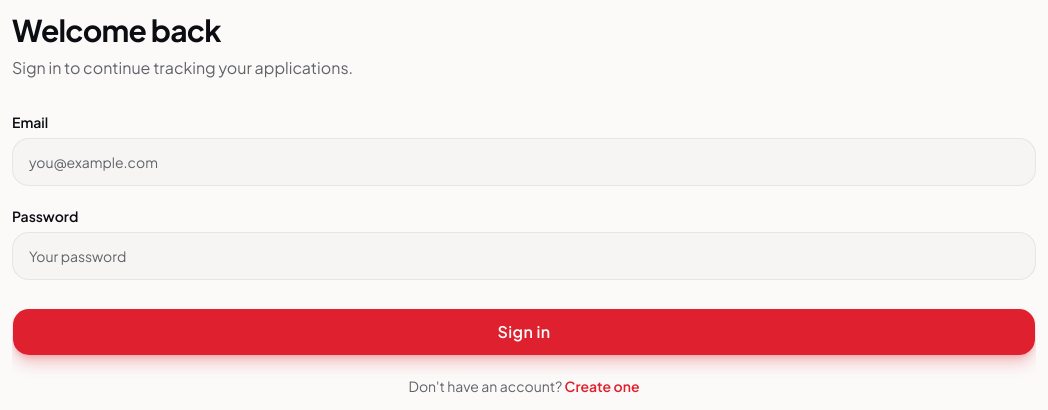
Test: LoginForm › disables button while loading
In the field labelled "Email": (524, 162) [12,138,1036,186], type "user@example.com"
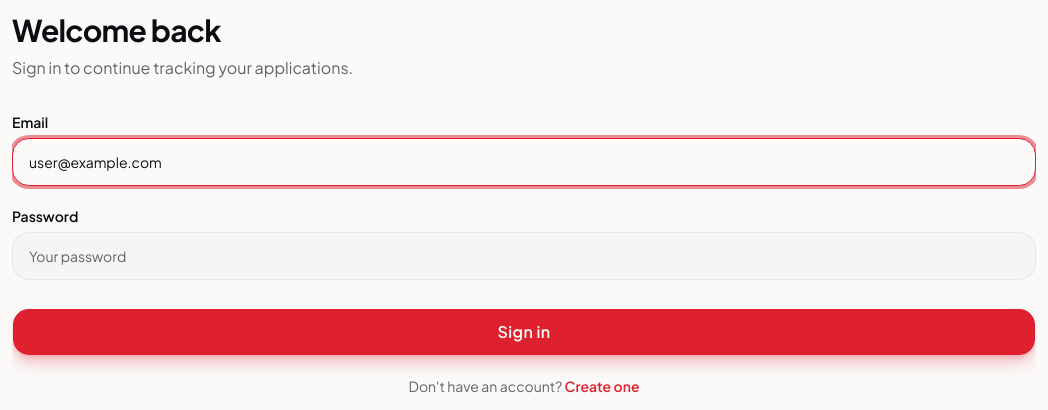
In the password field labelled "Password": (524, 256) [12,232,1036,280], type "password123"
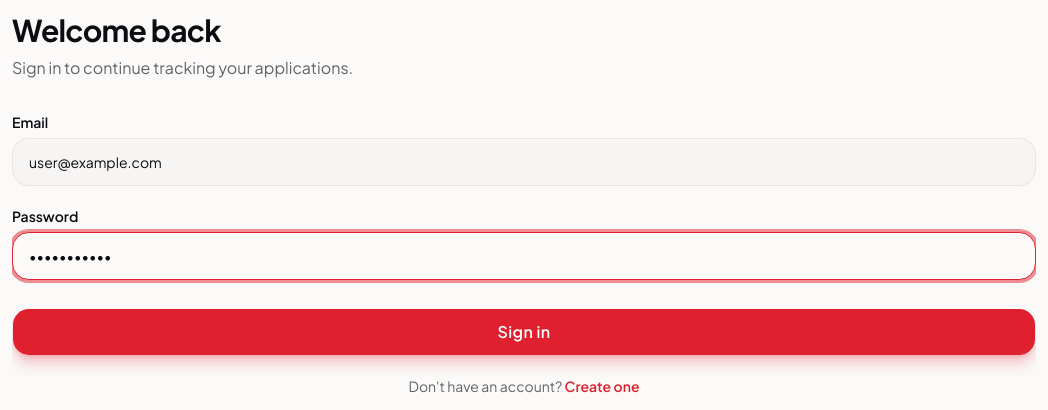
Click the button "Sign in": (524, 332) [12,308,1036,356]
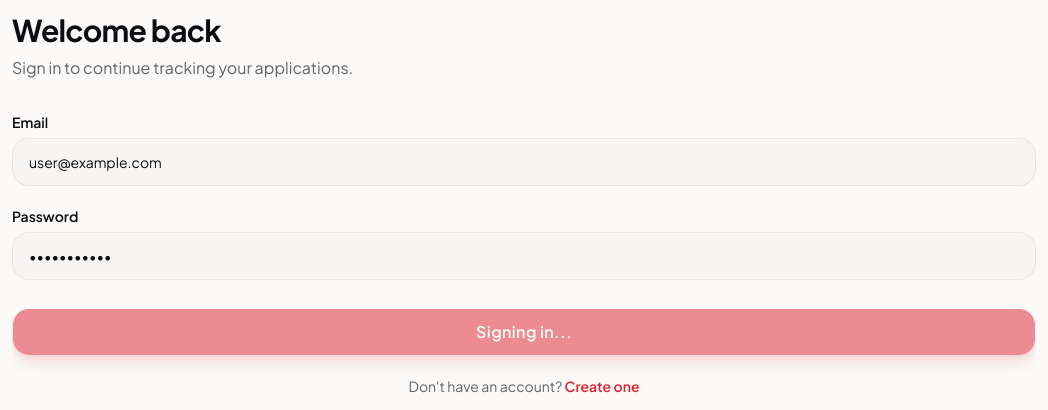
expect the button "Signing in..." is disabled: met, box [12,308,1036,356]
